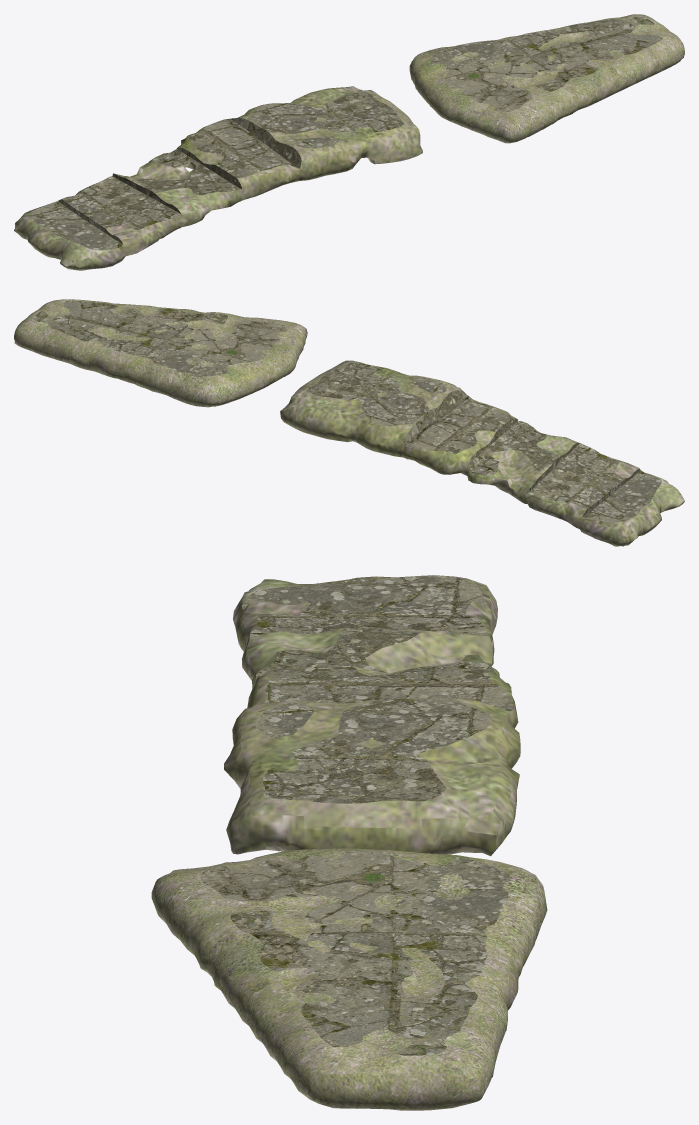
Rendered from SM_Chateaux_01_04.fbx.
The picture shows the model from 3 angles, top to bottom: view 1: azimuth 30°, elevation 25°; view 2: azimuth 150°, elevation 25°; view 3: azimuth 270°, elevation 25°; orthographic projection. The views are drawn at different scales.
Parts seen in each view (by area): view 1: SM_Chateaux_01_04; view 2: SM_Chateaux_01_04; view 3: SM_Chateaux_01_04.
Part boxes in pixels (x1,y1,x2,y2): SM_Chateaux_01_04: [14, 14, 684, 270]; SM_Chateaux_01_04: [14, 299, 684, 546]; SM_Chateaux_01_04: [151, 575, 547, 1110].
Bounding box in the file's own units: 1645 × 191 × 451.
